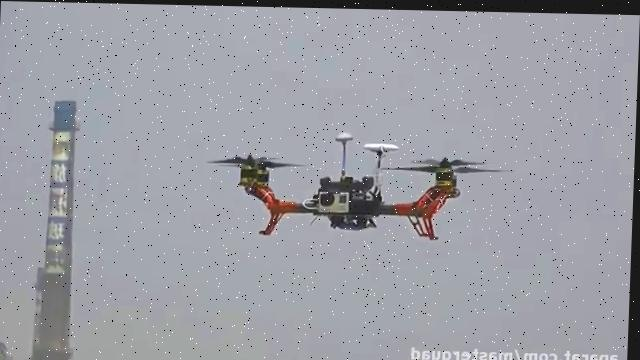drone: (204, 125, 518, 240)
